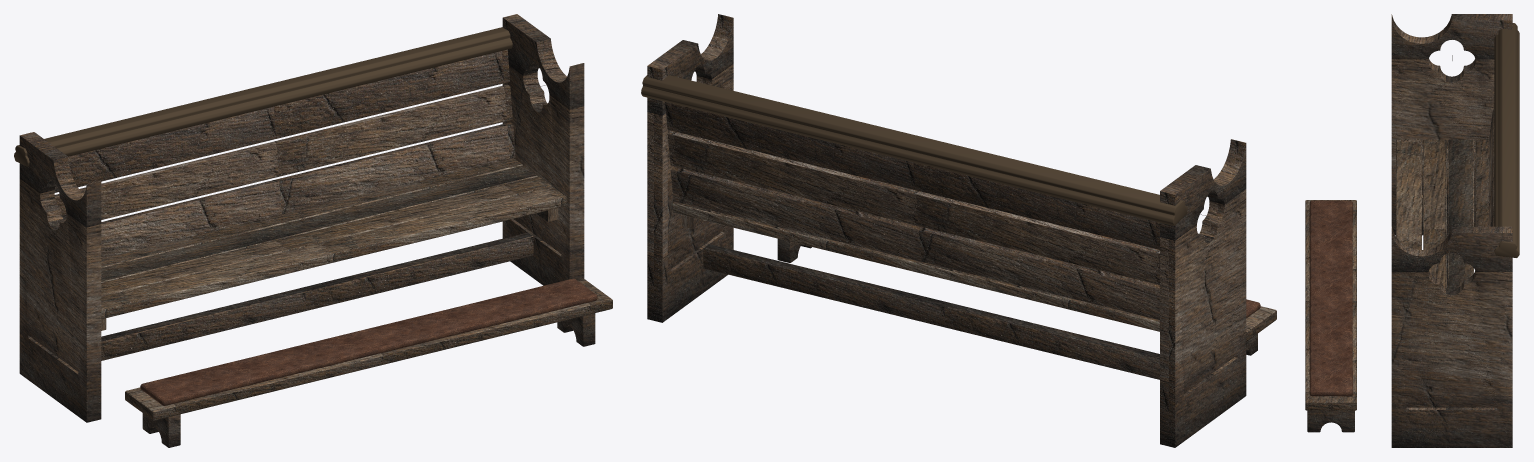
Rendered from pew-v02.glb.
3 renders of one model, left to right at view 1: azimuth 30°, elevation 25°; view 2: azimuth 150°, elevation 25°; view 3: azimuth 270°, elevation 25°, orthographic. The views are drawn at different scales.
Parts seen in each view (by area): view 1: pew; view 2: pew; view 3: pew.
Boxes of the visible parts, x1,y1,x2,y2 form: pew: [14, 14, 612, 447]; pew: [641, 14, 1276, 447]; pew: [1305, 14, 1519, 447].
Size of the model in its own units: 2.42 by 1.1 by 0.9932.
Materials: 3 (3 with a texture image).
